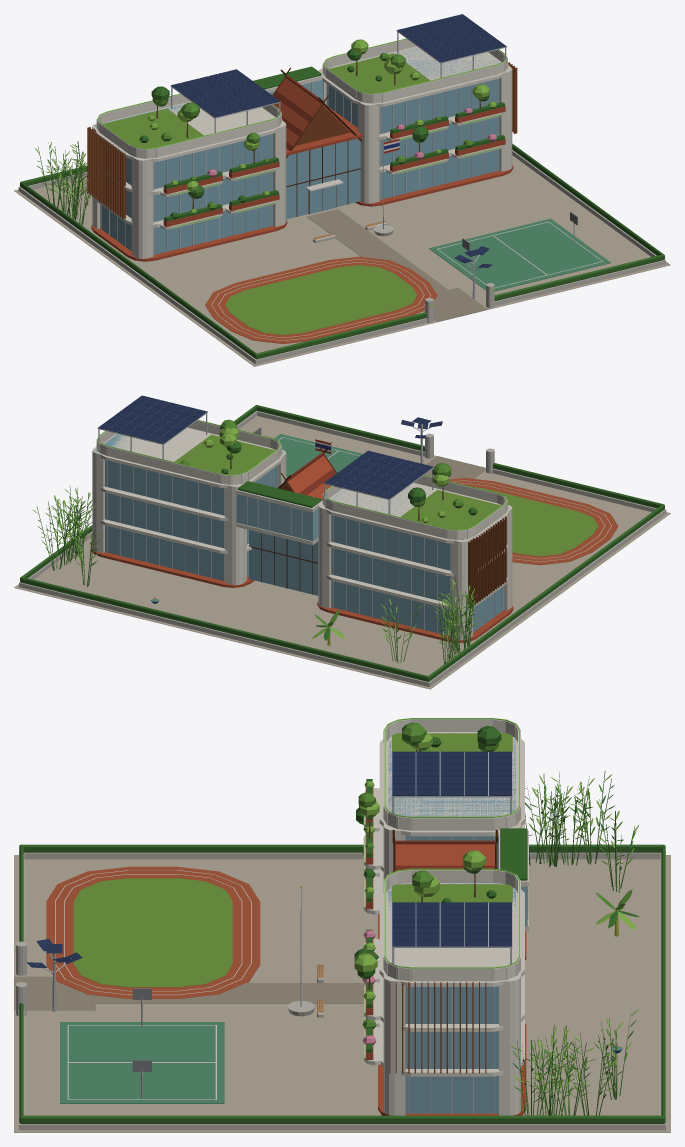
The model's file is school.glb.
The picture shows the model from 3 angles, top to bottom: view 1: azimuth 30°, elevation 25°; view 2: azimuth 150°, elevation 25°; view 3: azimuth 270°, elevation 25°; orthographic projection. The views are drawn at different scales.
Visible parts, largest first — view 1: body, windows; view 2: body, windows; view 3: body, windows.
Part boxes in pixels (x1,y1,x2,y2): body: (14, 14, 670, 366); windows: (97, 38, 507, 305); body: (14, 395, 670, 689); windows: (97, 420, 507, 530); body: (14, 719, 670, 1132); windows: (15, 718, 519, 1059).
Size of the model in its own units: 48.98 by 15.01 by 47.9.
